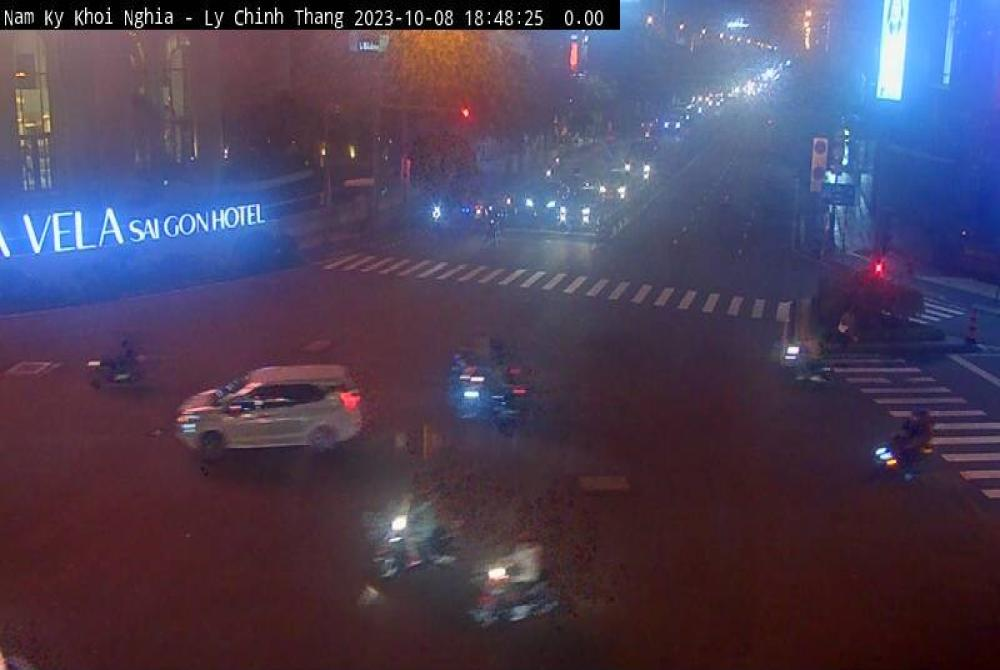car: (173, 361, 367, 465)
